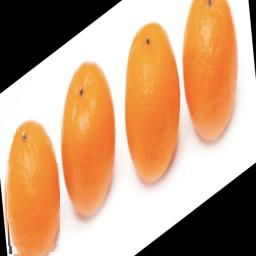Orange Fresh: (4, 97, 61, 254)
